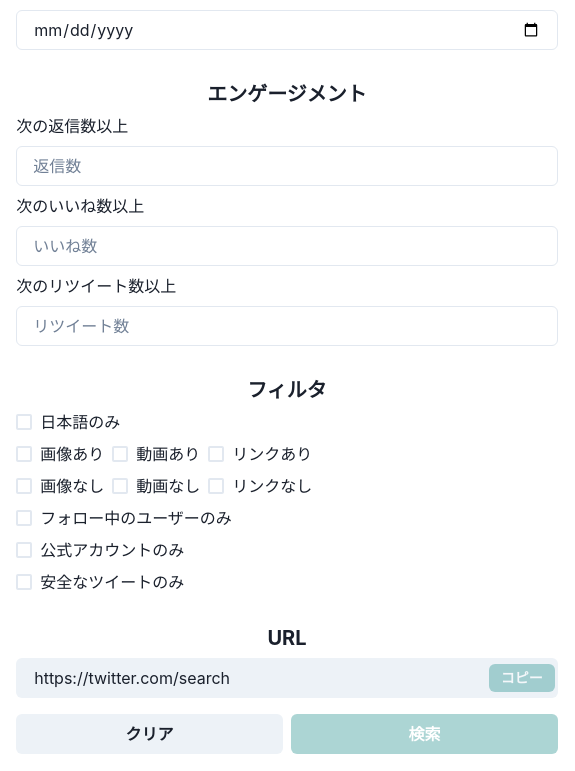
Test: フィルタ検索 › 日本語のみ
(page scrolled)
Check the checkbox labelled "日本語のみ": (68, 422) [16,410,120,434]
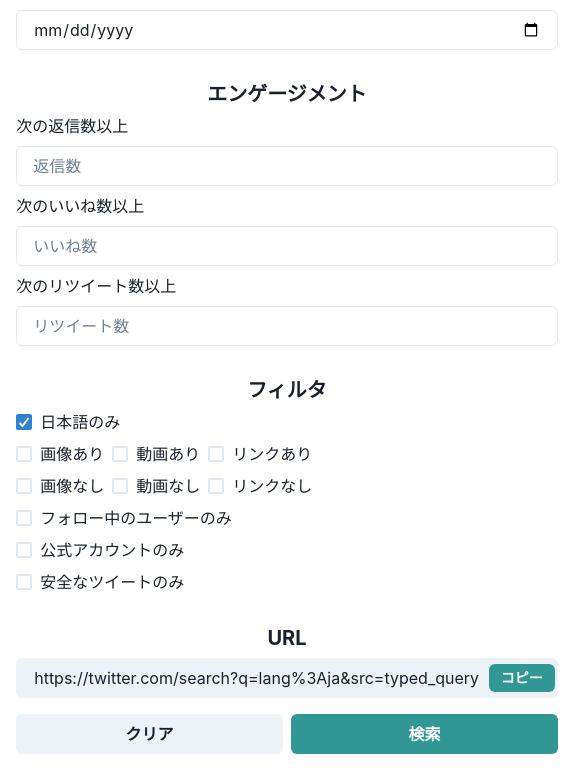
Check: the field with test id "url" holds "https://twitter.com/search?q=lang%3Aja&src=typed_query", box [16,658,558,698]
